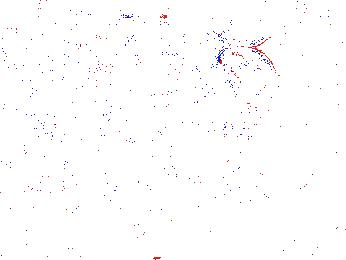moon jellyfish: (94, 53, 208, 133), (1, 29, 89, 95), (1, 63, 65, 146), (218, 46, 277, 106)
